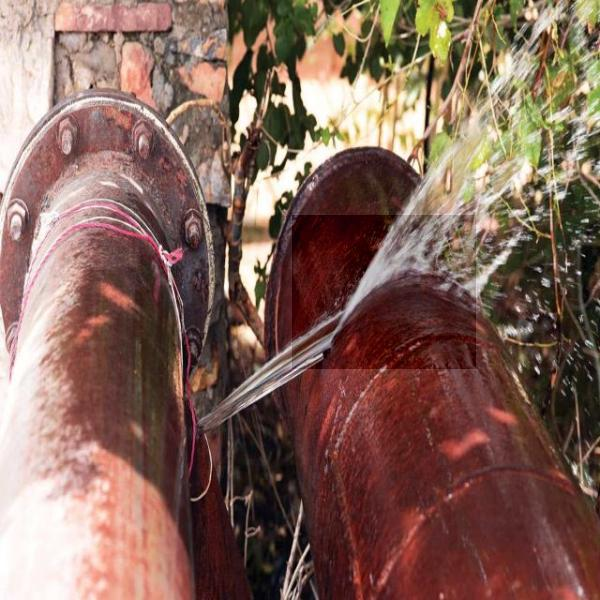leak: (292, 215, 476, 369)
